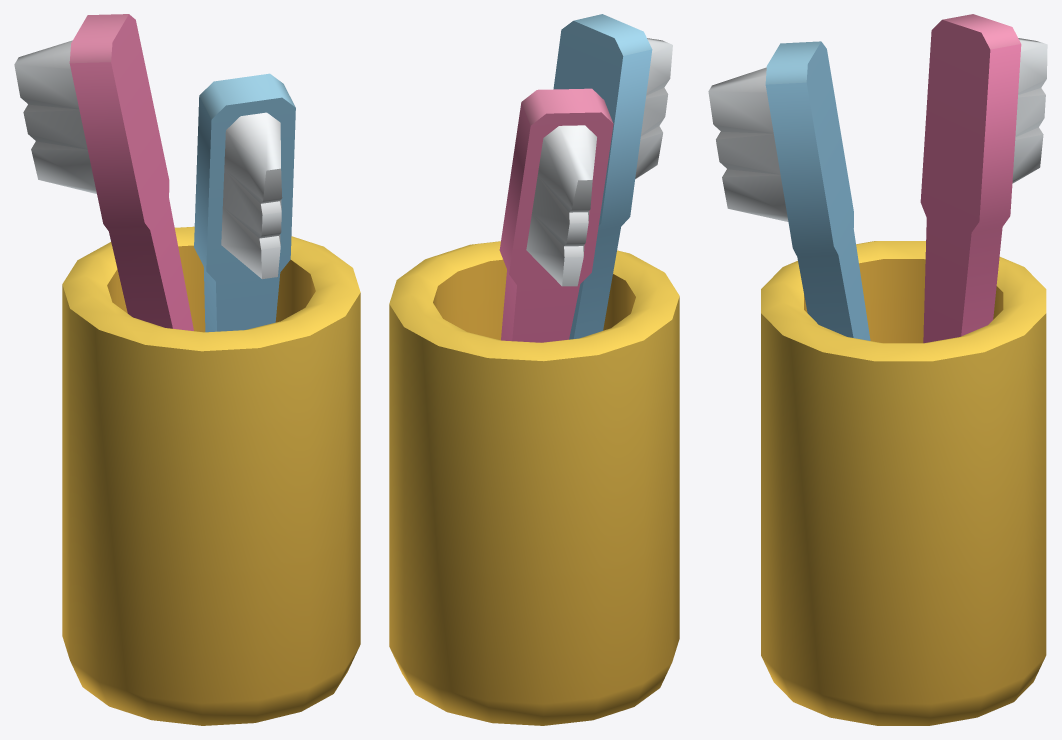
The model's file is Toothbrush Cup Decor.glb.
The picture shows the model from 3 angles, left to right: view 1: azimuth 30°, elevation 25°; view 2: azimuth 150°, elevation 25°; view 3: azimuth 270°, elevation 25°; orthographic projection. The views are drawn at different scales.
Parts seen in each view (by area): view 1: toothbrush_cup_decorated; view 2: toothbrush_cup_decorated; view 3: toothbrush_cup_decorated.
Boxes of the visible parts, x1,y1,x2,y2 form: toothbrush_cup_decorated: [14, 14, 360, 725]; toothbrush_cup_decorated: [389, 14, 679, 725]; toothbrush_cup_decorated: [708, 14, 1047, 725].
Bounding box in the file's own units: 0.2897 × 0.7016 × 0.3425.
Materials: 1 (1 with a texture image).
